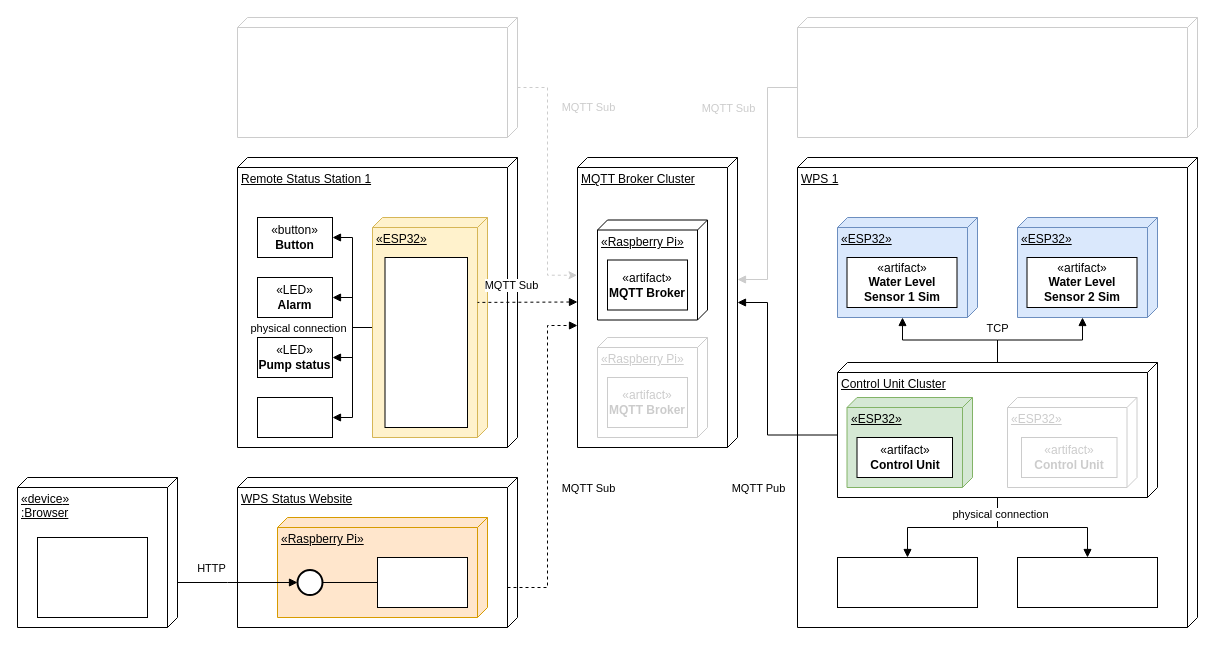
This 1215x645 diagram has some shape labels left out. Each missing label, with the centre of its shape:
"Remote Status Station 2" belongs at point 377,77.
"WPS 2" belongs at point 997,77.
"«artifact» Firefox" belongs at point 92,577.
"«artifact» HTTP Server" belongs at point 422,582.
"«artifact» Remote Status Station" belongs at point 426,342.
"«LED» Pump 1" belongs at point 907,582.
"«LED» Pump 2" belongs at point 1087,582.
"«LED» Water Level status" belongs at point 294,417.
